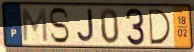0: (99, 7, 121, 46)
3: (123, 6, 146, 47)
D: (147, 8, 173, 46)
J: (76, 8, 95, 44)
M: (21, 7, 49, 44)
S: (48, 6, 71, 45)
